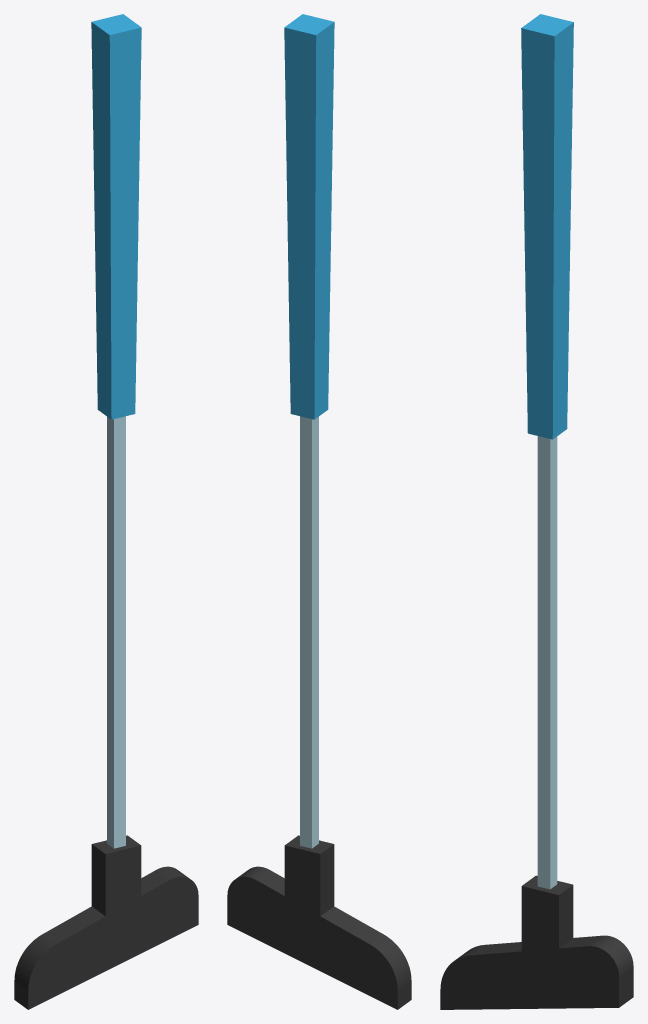
Rendered from club_blue.obj.
3 renders of one model, left to right at view 1: azimuth 30°, elevation 25°; view 2: azimuth 150°, elevation 25°; view 3: azimuth 330°, elevation 25°, orthographic. The views are drawn at different scales.
Parts seen in each view (by area): view 1: club_blue; view 2: club_blue; view 3: club_blue.
Part boxes in pixels (x1,y1,x2,y2): club_blue: [14, 14, 198, 1009]; club_blue: [227, 14, 411, 1009]; club_blue: [440, 14, 633, 1009].
Size of the model in its own units: 0.1844 by 0.9899 by 0.0345.
